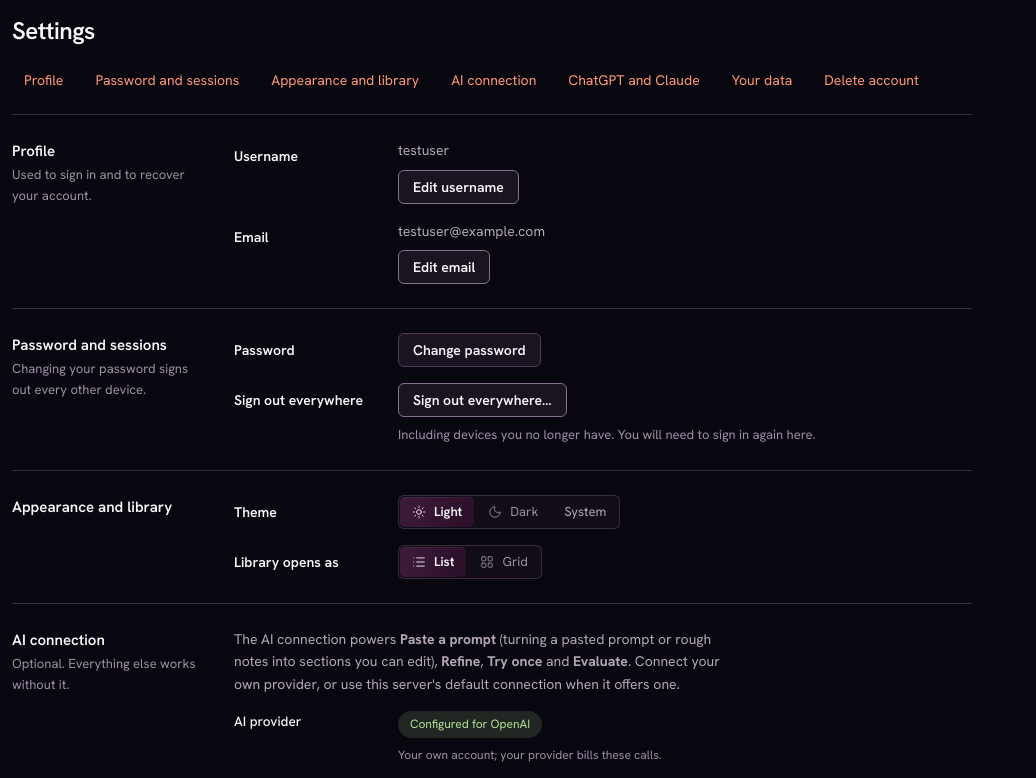
Test case: SettingsPage › asks before signing out everywhere and can be cancelled
Click the button "Sign out everywhere…": (482, 400) [398,383,567,417]
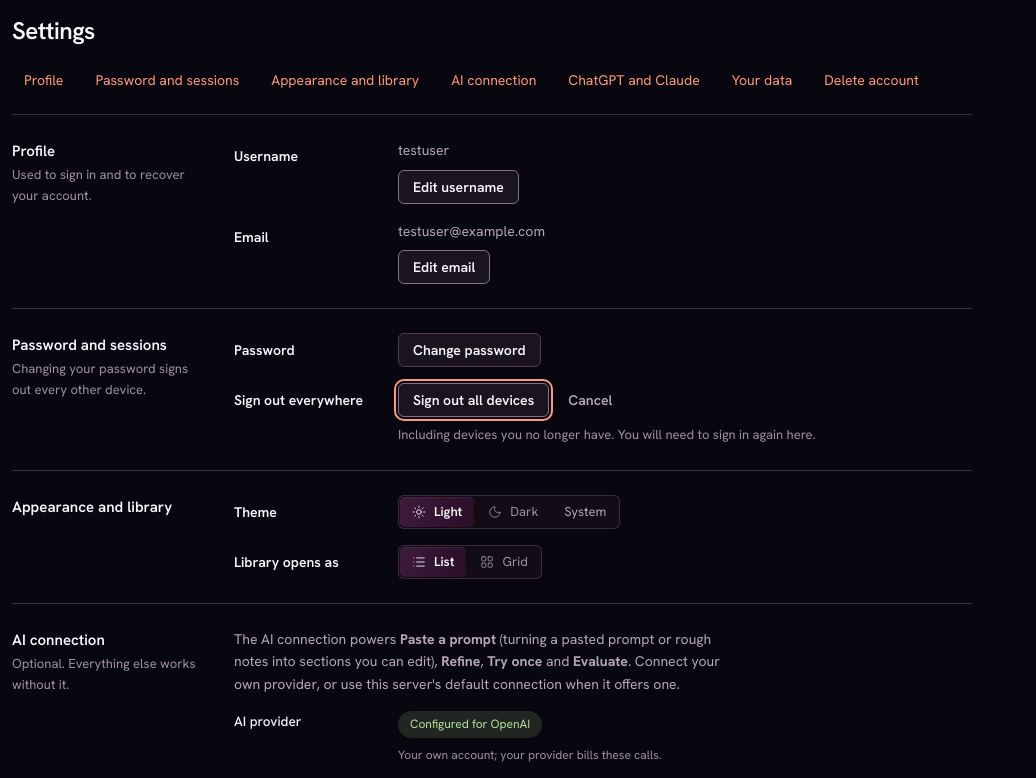
Click the button "Cancel": (590, 400) [557,383,623,417]
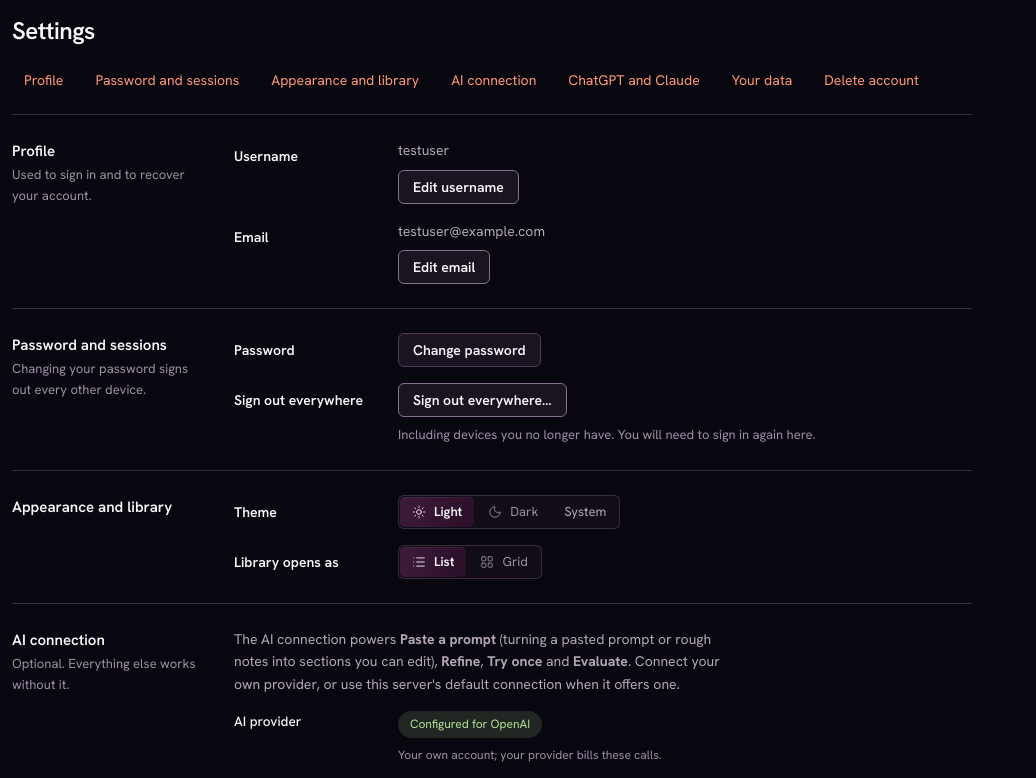
Expected: the button "Sign out everywhere…" is shown, [398,383,567,417]
